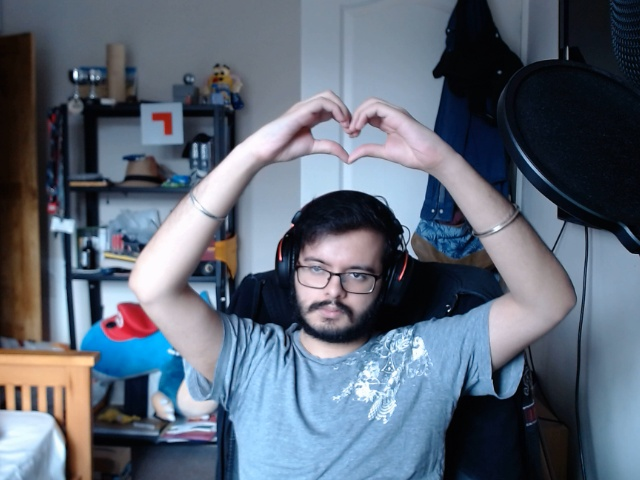Heart: (239, 81, 454, 170)
